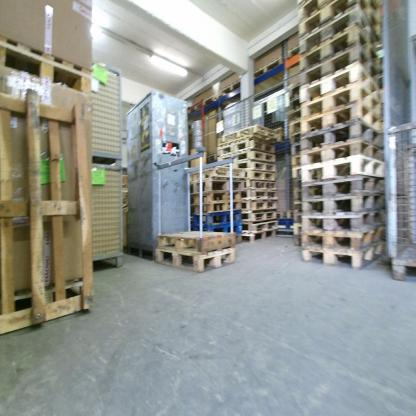pallet: (2, 99, 93, 325), (1, 34, 93, 96), (299, 63, 383, 100), (301, 46, 380, 81), (302, 104, 381, 137), (153, 241, 236, 272), (301, 117, 384, 148), (303, 84, 383, 115), (301, 244, 384, 269), (301, 138, 384, 163), (299, 157, 386, 179), (302, 176, 387, 198), (301, 196, 385, 218), (300, 28, 383, 50), (300, 228, 381, 247), (218, 136, 276, 153), (248, 54, 283, 80), (223, 122, 276, 138), (301, 218, 381, 228), (192, 179, 247, 191), (189, 168, 247, 179), (189, 95, 216, 118), (195, 200, 242, 213), (221, 77, 246, 101), (220, 152, 276, 162), (195, 213, 243, 222), (200, 222, 243, 231), (252, 210, 277, 223), (253, 220, 278, 233), (195, 194, 242, 200), (248, 170, 276, 180), (251, 180, 276, 190), (252, 200, 277, 210), (252, 190, 279, 199), (275, 126, 285, 149), (239, 163, 277, 169), (203, 152, 217, 166), (285, 47, 299, 60), (288, 108, 302, 121), (283, 209, 294, 225), (290, 132, 303, 145), (290, 121, 302, 134), (292, 178, 303, 191), (290, 154, 302, 165), (291, 166, 302, 178), (277, 208, 286, 222), (293, 192, 302, 205), (292, 143, 302, 154), (294, 213, 302, 225), (294, 204, 302, 213), (294, 226, 301, 234)
stillage: (388, 117, 415, 282), (90, 164, 126, 275), (91, 61, 124, 169)
